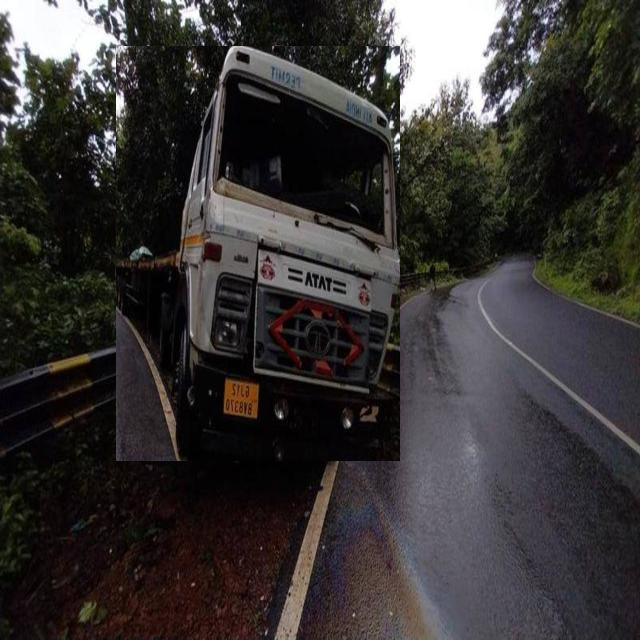truck: (116, 47, 400, 461)
